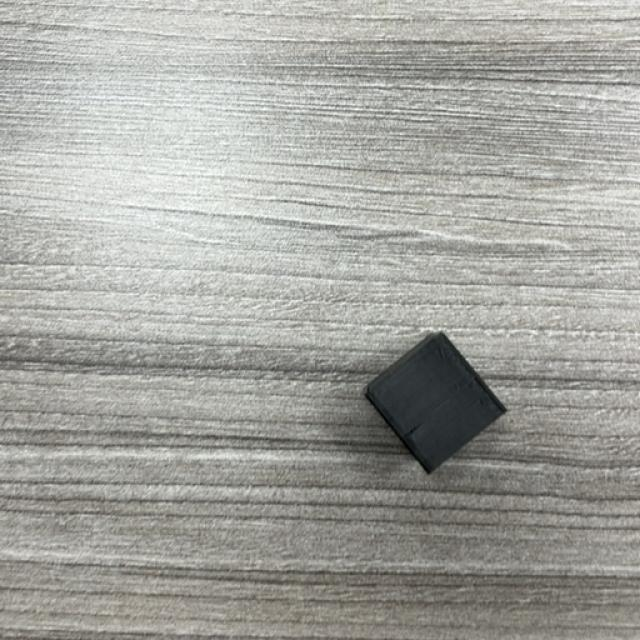Negro: (362, 332, 508, 476)
